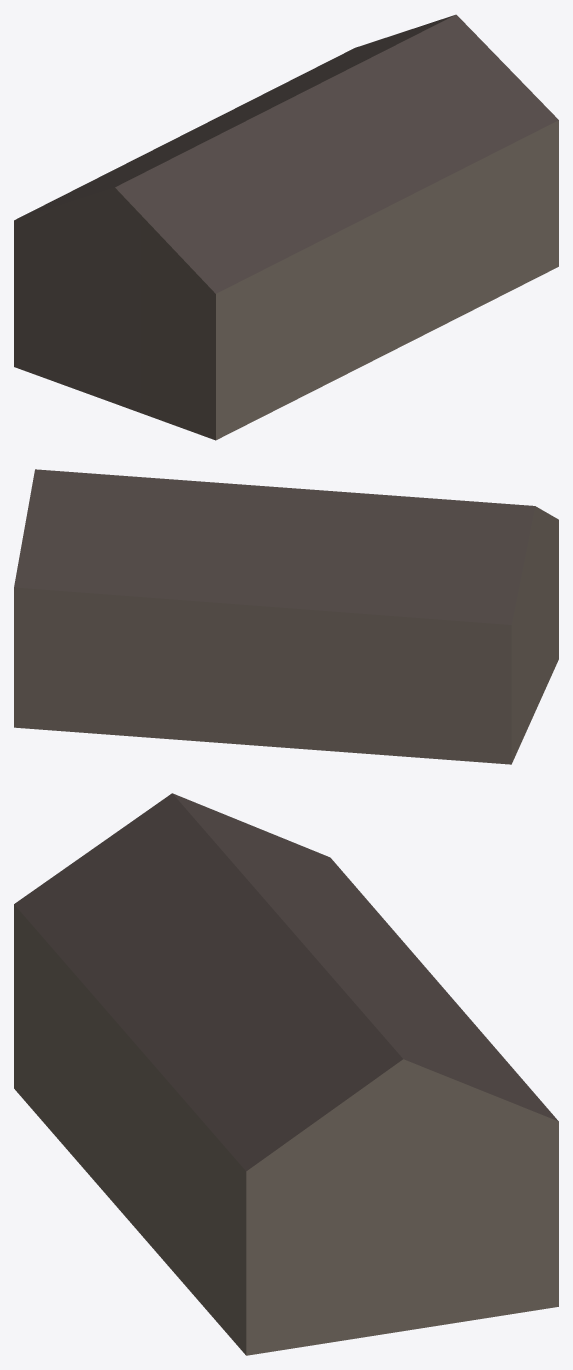
3 views of the same model, one above another, from view 1: azimuth 30°, elevation 25°; view 2: azimuth 150°, elevation 25°; view 3: azimuth 270°, elevation 25° (orthographic). The views are drawn at different scales.
Visible parts, largest first — view 1: HP-w1198645059; view 2: HP-w1198645059; view 3: HP-w1198645059.
Boxes of the visible parts, left/top/right/bottom form: HP-w1198645059: left=14, top=14, right=558, bottom=440; HP-w1198645059: left=14, top=469, right=558, bottom=764; HP-w1198645059: left=14, top=793, right=558, bottom=1355.
Bounding box in the file's own units: 21.92 × 8.85 × 16.08.
